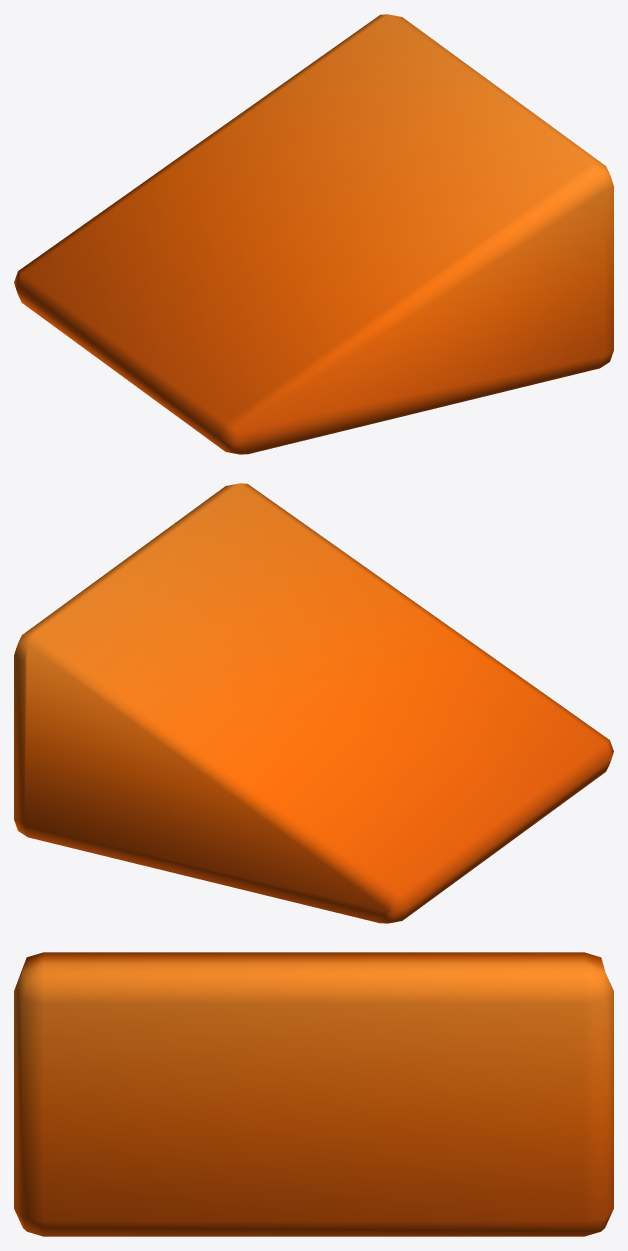
File: 3D_Tile_Ground_Slope_03B.glb
The picture shows the model from 3 angles, top to bottom: view 1: azimuth 30°, elevation 25°; view 2: azimuth 150°, elevation 25°; view 3: azimuth 270°, elevation 25°; orthographic projection. The views are drawn at different scales.
Visible parts, largest first — view 1: 3D_Tile_Ground_Slope_03B; view 2: 3D_Tile_Ground_Slope_03B; view 3: 3D_Tile_Ground_Slope_03B.
Part boxes in pixels (x1,y1,x2,y2): 3D_Tile_Ground_Slope_03B: (14,14,613,454); 3D_Tile_Ground_Slope_03B: (14,483,613,923); 3D_Tile_Ground_Slope_03B: (14,952,613,1236).
Bounding box in the file's own units: 2 × 1 × 2.
Materials: 1 (1 with a texture image).
